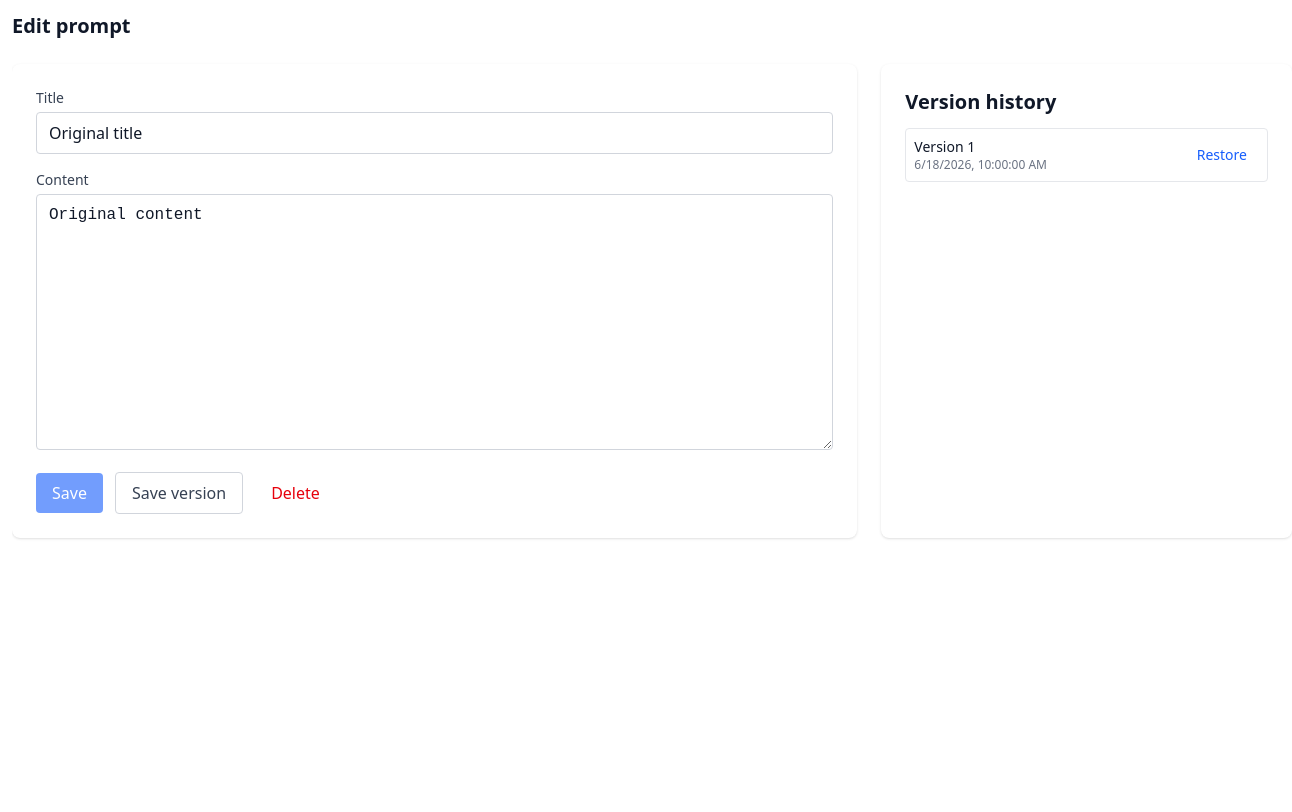
Test: PromptEditorPage › saves a version when clean and appends the new row
Expected: the field showing "Original title" is shown, [36, 112, 833, 154]
What coordinates should you click on to do the following:
click the button "Save version"
I would click on:
 (179, 493)
Its box is [115, 472, 243, 514].
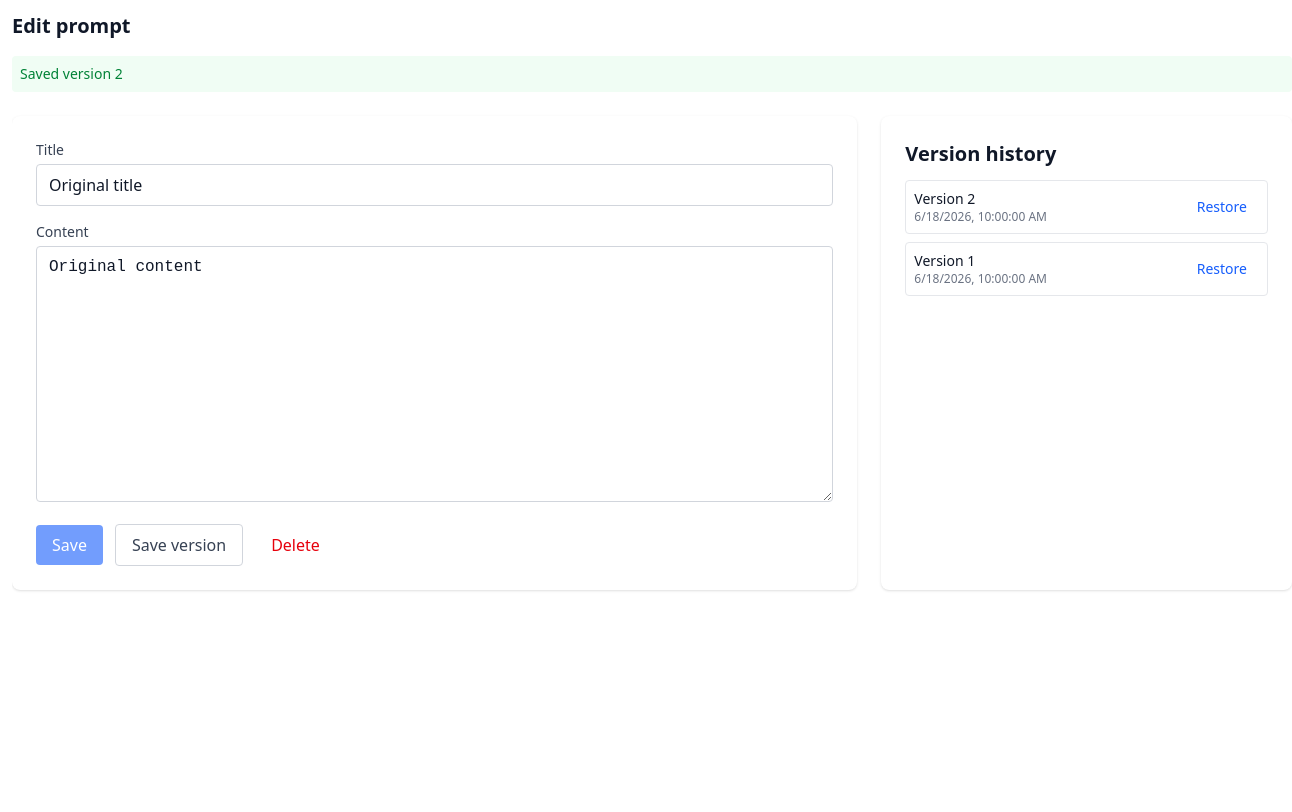
Expected: the message reads "Saved version 2", [20, 64, 123, 83]
Expected: the text "Version 2" is shown, [914, 189, 975, 208]
